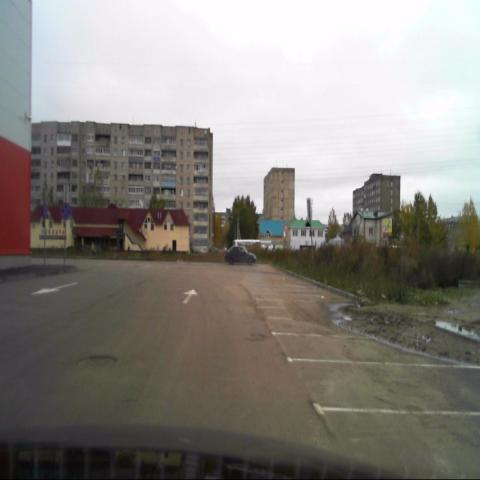3_27: (60, 202, 72, 222)
